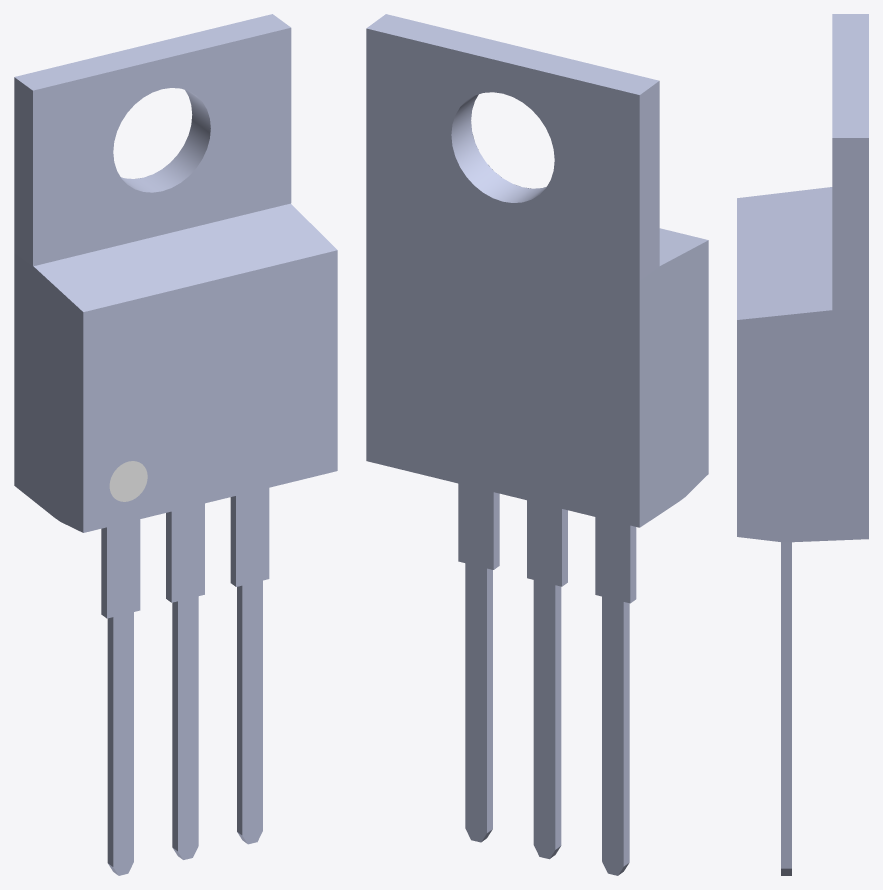
3 renders of one model, left to right at view 1: azimuth 30°, elevation 25°; view 2: azimuth 150°, elevation 25°; view 3: azimuth 270°, elevation 25°, orthographic. The views are drawn at different scales.
Visible parts, largest first — view 1: mesh-0; view 2: mesh-0; view 3: mesh-0.
Boxes of the visible parts, x1=… form: mesh-0: x1=14, y1=14, x2=337, y2=875; mesh-0: x1=366, y1=14, x2=708, y2=875; mesh-0: x1=737, y1=14, x2=868, y2=875.
Size of the model in its own units: 10.16 by 29.34 by 4.57.
